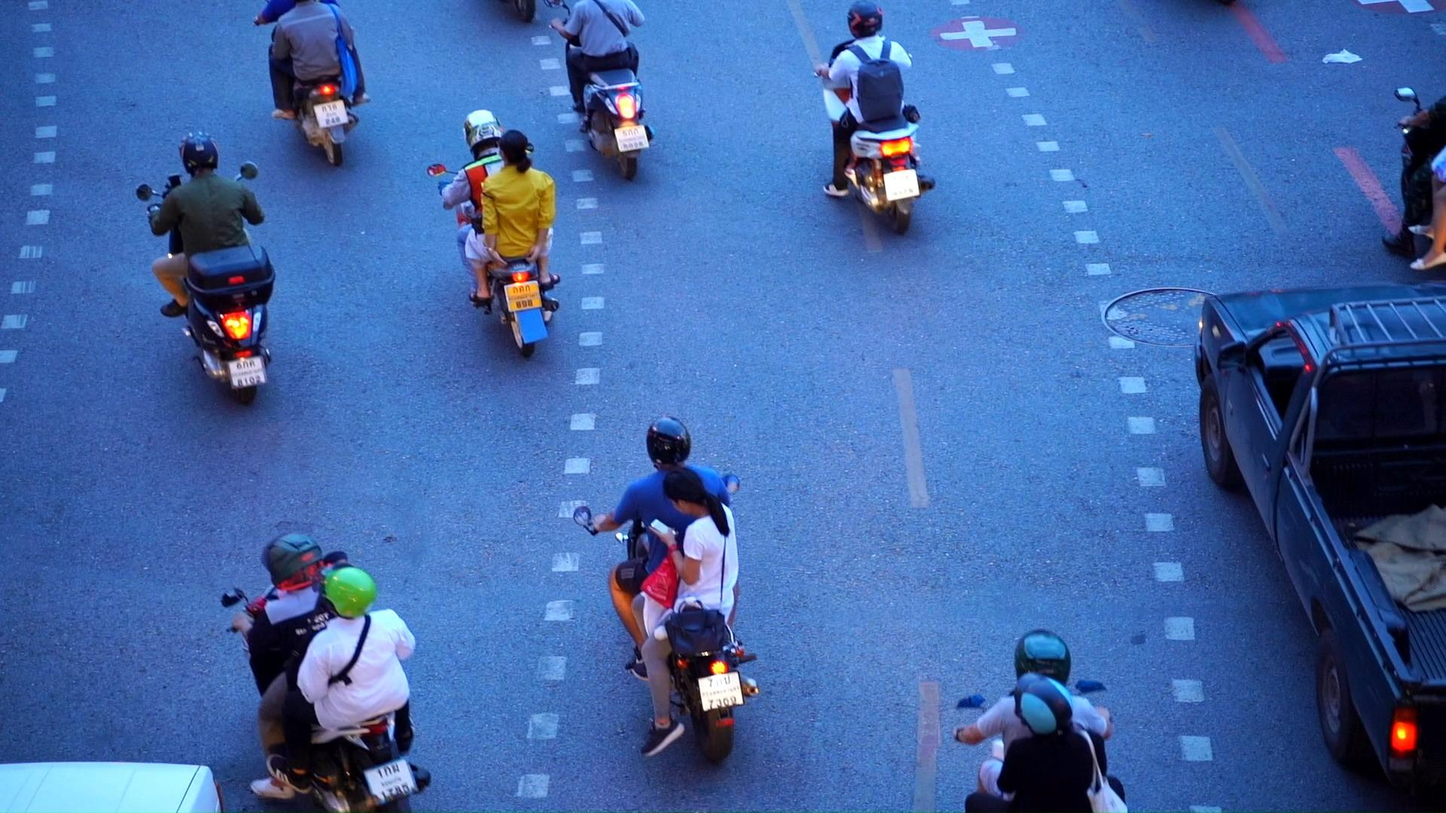driver: (573, 416, 759, 763), (221, 532, 432, 813), (135, 131, 276, 405), (427, 109, 562, 358), (952, 628, 1128, 813), (813, 0, 936, 235), (542, 0, 656, 180), (253, 0, 372, 165), (1383, 86, 1446, 271)
helmet: (1013, 672, 1074, 739), (312, 561, 377, 620), (260, 533, 323, 591), (1014, 628, 1072, 687), (646, 415, 692, 468), (463, 109, 502, 155), (178, 132, 219, 174), (847, 0, 882, 39)
no-helmet: (662, 468, 729, 518), (496, 129, 532, 174)
